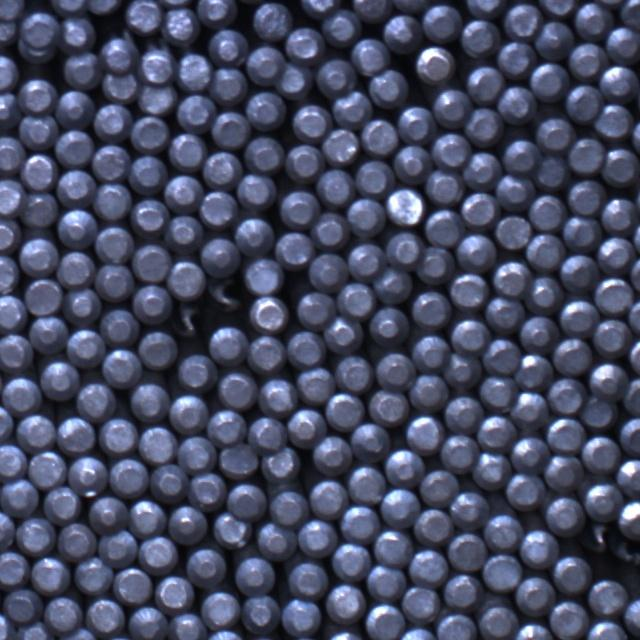tool: (17, 11, 58, 60), (187, 547, 228, 587), (169, 394, 209, 435), (312, 435, 352, 476), (69, 454, 109, 495), (110, 458, 150, 498), (138, 535, 178, 575), (168, 504, 208, 544), (77, 382, 117, 422), (374, 350, 414, 390), (234, 556, 274, 596), (350, 422, 390, 462), (327, 582, 367, 622), (380, 488, 419, 529), (245, 90, 286, 129), (422, 1, 461, 42), (30, 555, 70, 594), (309, 478, 348, 518), (42, 360, 81, 400), (87, 493, 127, 532), (298, 518, 338, 557), (66, 327, 105, 367), (548, 600, 587, 640), (150, 463, 189, 503), (520, 528, 559, 568), (384, 186, 424, 225), (405, 415, 444, 455), (339, 504, 378, 544), (19, 238, 58, 278), (369, 67, 409, 106), (370, 306, 409, 346), (588, 579, 628, 618), (324, 314, 364, 353), (416, 46, 456, 85), (130, 381, 169, 421), (315, 58, 355, 97), (383, 14, 423, 53), (386, 448, 426, 487), (281, 598, 320, 638), (256, 521, 297, 559), (58, 522, 97, 561), (138, 331, 177, 370), (600, 64, 639, 103), (325, 392, 364, 431), (254, 1, 293, 40), (219, 370, 258, 409), (95, 226, 134, 265), (133, 285, 172, 324), (44, 486, 83, 525), (57, 208, 96, 247), (590, 360, 629, 399), (201, 237, 240, 276), (177, 352, 216, 391), (279, 190, 318, 229), (226, 481, 266, 519), (310, 254, 350, 292), (2, 476, 40, 516), (28, 450, 68, 488), (286, 406, 324, 446), (128, 498, 166, 538), (98, 528, 138, 566), (482, 552, 522, 590), (155, 574, 195, 612), (208, 407, 248, 445), (245, 134, 285, 172), (546, 496, 584, 536), (208, 326, 246, 366), (188, 470, 226, 510), (552, 555, 592, 593), (243, 594, 281, 634), (457, 234, 497, 272), (393, 145, 431, 185), (449, 490, 489, 528), (420, 468, 460, 506), (332, 90, 372, 128), (212, 511, 252, 549), (94, 102, 132, 142), (398, 105, 436, 145), (261, 445, 301, 483), (200, 590, 240, 628), (236, 172, 276, 210), (434, 88, 472, 128), (534, 20, 572, 60), (18, 516, 56, 555), (18, 412, 57, 450), (115, 566, 154, 604), (138, 426, 177, 464), (99, 416, 138, 454), (296, 290, 335, 328), (102, 347, 140, 386), (365, 602, 404, 640), (284, 26, 323, 64), (332, 542, 371, 580), (75, 556, 114, 594), (86, 596, 125, 634), (260, 376, 298, 415), (132, 242, 171, 280), (29, 316, 68, 354), (286, 142, 324, 181), (346, 197, 384, 236), (409, 549, 448, 587), (275, 230, 314, 268), (447, 533, 486, 571), (348, 465, 386, 504), (460, 20, 499, 58), (289, 560, 328, 598), (575, 1, 613, 40), (56, 90, 94, 129), (529, 61, 567, 100), (202, 151, 240, 190), (63, 52, 102, 90), (176, 94, 214, 133), (234, 216, 273, 254), (467, 66, 505, 105), (473, 450, 512, 488), (409, 374, 448, 412), (57, 415, 97, 452), (292, 102, 332, 139), (476, 415, 516, 452), (323, 8, 363, 45), (220, 442, 261, 478), (2, 376, 40, 414), (167, 260, 205, 298), (24, 276, 62, 314), (527, 233, 565, 271), (424, 209, 462, 247), (374, 529, 412, 567), (374, 265, 412, 303), (200, 190, 238, 228), (506, 472, 544, 510), (516, 576, 554, 614), (554, 337, 592, 375), (484, 512, 522, 550), (581, 436, 619, 474), (58, 169, 96, 207), (317, 168, 355, 206), (559, 300, 597, 338), (209, 28, 247, 66), (546, 416, 584, 454), (164, 174, 202, 212), (19, 78, 57, 116), (247, 46, 285, 84), (596, 276, 634, 314), (433, 132, 471, 170), (483, 338, 521, 376), (494, 172, 532, 210), (177, 436, 216, 473), (45, 596, 84, 633), (92, 145, 131, 182), (369, 388, 408, 425), (464, 152, 501, 191), (505, 1, 542, 40), (95, 264, 134, 301), (412, 290, 451, 327), (131, 115, 170, 152), (65, 285, 102, 324), (444, 395, 483, 432), (58, 252, 96, 289), (248, 415, 286, 452), (286, 329, 324, 366), (249, 334, 287, 371), (213, 111, 251, 148), (297, 367, 335, 404), (569, 136, 606, 174), (56, 128, 94, 165), (169, 132, 206, 170), (323, 128, 360, 166), (594, 101, 632, 138), (418, 245, 455, 283), (582, 482, 619, 520), (449, 272, 487, 309), (499, 86, 536, 124), (275, 61, 313, 98), (560, 255, 598, 292), (311, 212, 348, 250), (270, 490, 309, 526), (244, 257, 283, 293), (602, 148, 638, 187), (485, 296, 524, 332), (351, 38, 388, 75), (361, 119, 398, 156), (566, 84, 603, 121), (94, 181, 131, 218), (460, 191, 497, 228), (412, 335, 449, 372), (513, 434, 550, 471), (545, 454, 582, 491), (335, 356, 373, 392), (348, 242, 384, 280), (337, 283, 375, 319), (130, 156, 166, 194), (442, 434, 478, 472), (402, 586, 440, 622), (569, 42, 607, 78), (176, 52, 212, 90), (444, 574, 482, 610), (466, 106, 502, 144), (520, 316, 558, 352), (249, 296, 287, 332), (356, 160, 394, 196), (163, 5, 199, 43), (59, 15, 95, 53), (21, 190, 59, 226), (516, 354, 552, 392), (365, 563, 404, 598), (386, 230, 420, 270), (20, 153, 57, 189), (595, 318, 631, 355), (498, 40, 534, 77), (492, 260, 528, 297), (131, 198, 167, 235), (100, 307, 137, 343), (602, 198, 639, 234), (425, 168, 462, 204), (168, 214, 205, 250), (596, 237, 633, 273), (100, 37, 136, 74), (564, 214, 601, 250), (605, 25, 640, 63), (479, 605, 517, 640), (414, 509, 452, 544), (535, 117, 573, 152), (548, 376, 586, 411), (530, 195, 566, 231), (569, 179, 605, 215), (210, 66, 246, 102), (451, 318, 488, 353), (138, 48, 175, 83), (512, 395, 549, 430), (130, 606, 168, 640), (3, 588, 41, 622), (504, 138, 540, 173), (124, 0, 162, 33), (140, 82, 178, 115), (496, 216, 532, 250), (0, 334, 32, 371), (480, 378, 515, 411), (198, 0, 238, 28), (0, 549, 29, 587), (437, 613, 477, 640), (168, 612, 205, 640), (0, 443, 27, 480), (0, 295, 26, 331), (0, 177, 24, 215), (0, 134, 24, 172), (618, 500, 640, 540), (617, 459, 640, 496), (586, 619, 626, 640), (353, 0, 393, 21), (619, 416, 640, 455), (18, 620, 58, 640), (298, 0, 342, 17), (0, 255, 18, 296), (623, 595, 640, 638), (466, 0, 511, 16), (0, 218, 19, 255), (515, 622, 554, 640), (623, 377, 640, 418), (0, 509, 16, 552), (538, 0, 580, 15), (0, 54, 17, 90), (0, 405, 14, 446), (86, 0, 125, 14), (621, 0, 639, 29), (398, 627, 438, 640), (61, 627, 100, 640), (391, 0, 433, 12), (50, 0, 88, 13), (0, 612, 16, 640), (628, 296, 640, 333), (629, 335, 640, 375), (205, 629, 244, 640), (326, 630, 366, 640), (630, 253, 640, 291), (632, 117, 640, 155), (633, 220, 640, 256)
tool_b: (206, 276, 244, 314), (171, 302, 204, 341), (579, 525, 611, 557), (612, 539, 640, 571)
